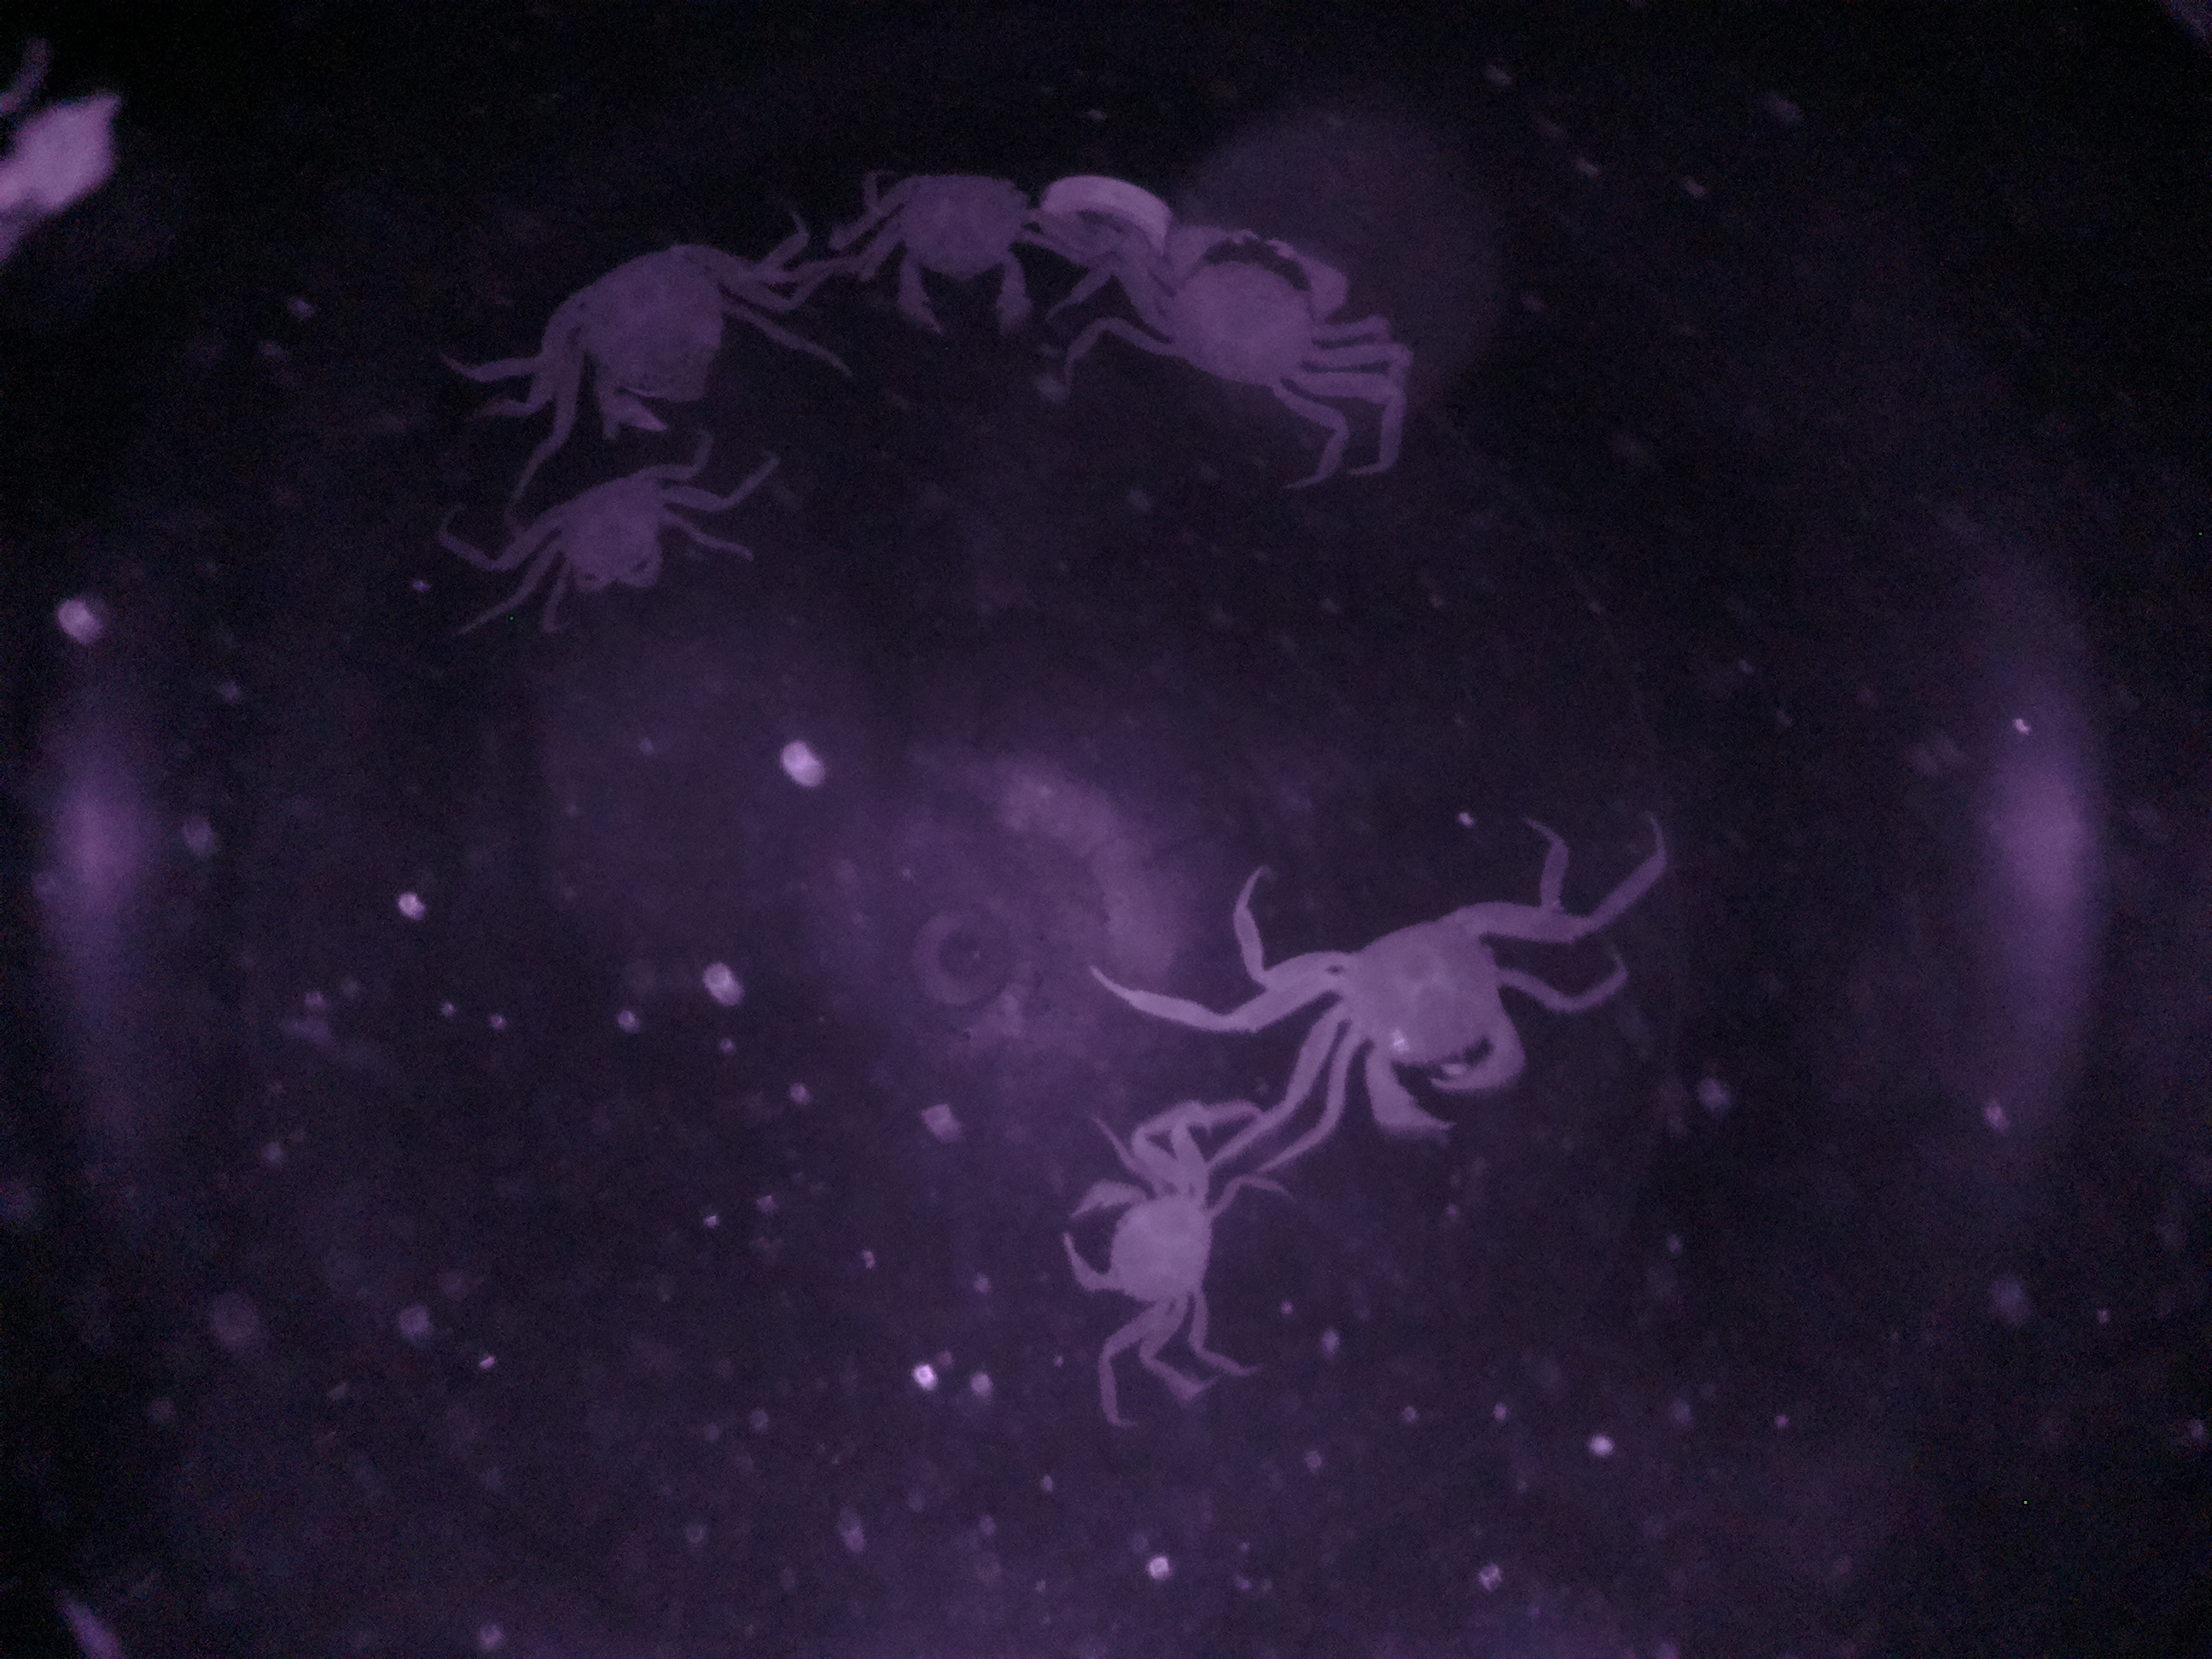Crab: (1249, 880, 1576, 1143), (1097, 214, 1366, 425), (482, 446, 711, 620), (1057, 1136, 1235, 1359)
